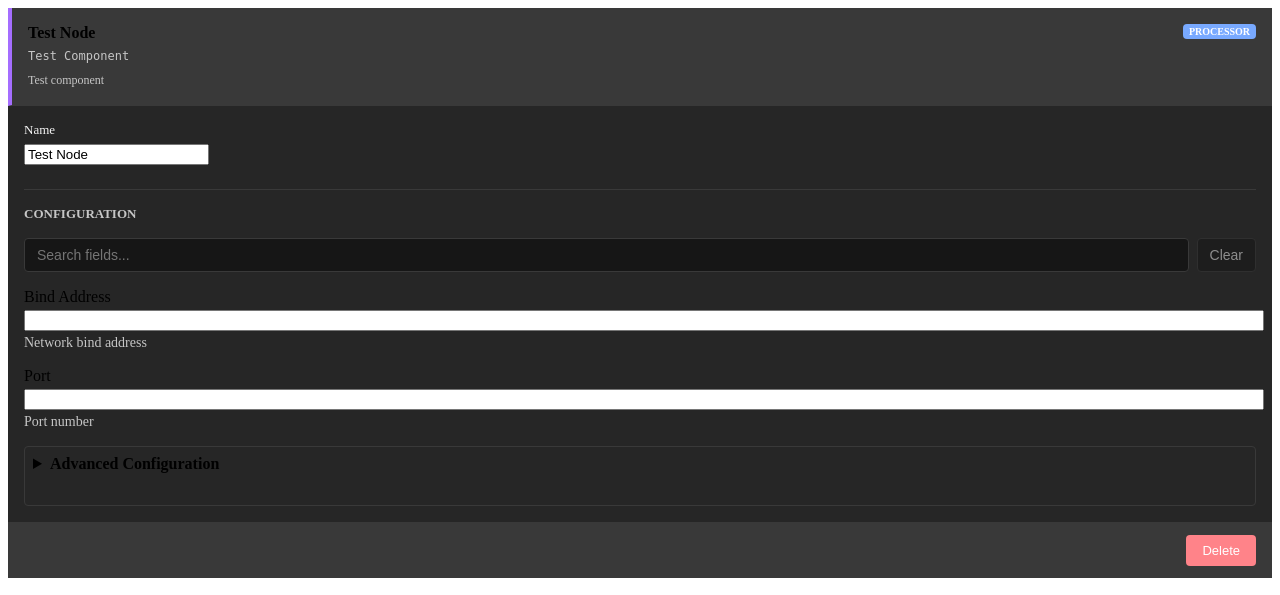
Test: PropertiesPanel - Search/Filter › should filter fields by description
Type "network" into the field with test id "field-search" at (606, 255), box [24,238,1188,272]
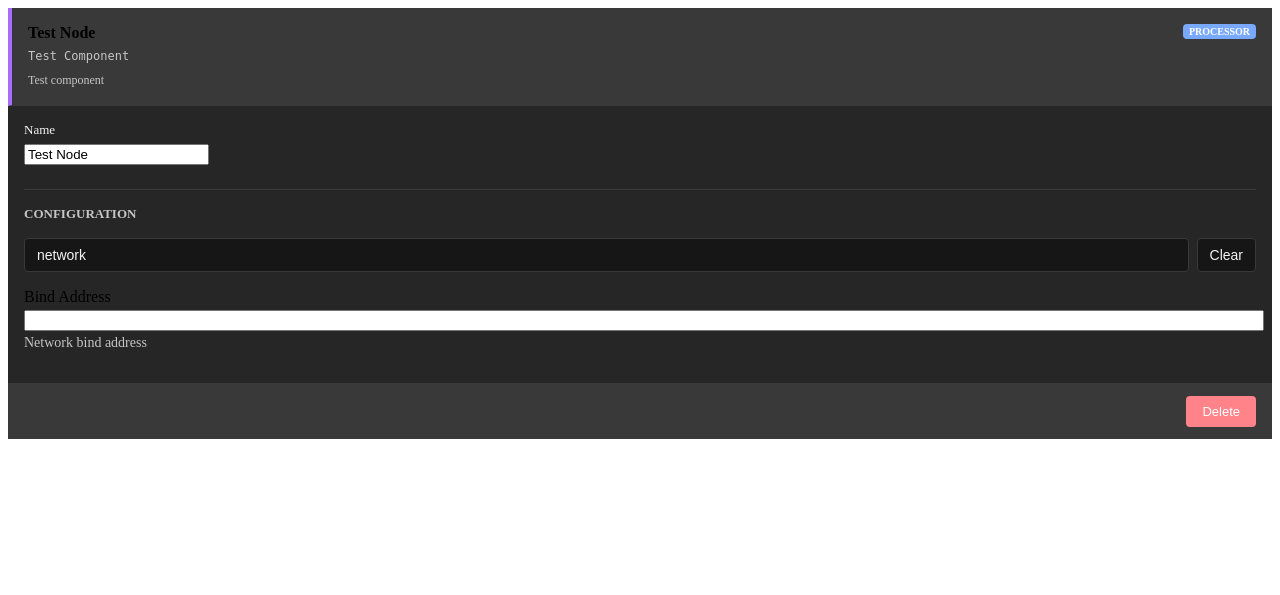
Expected: the field with id "bind_address" is shown, [24,310,1264,331]
Expected: the label is gone
